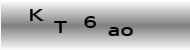6: (83, 14, 96, 29)
K: (28, 7, 44, 23)
T: (52, 19, 67, 33)
a: (107, 26, 120, 37)
o: (120, 26, 132, 37)
